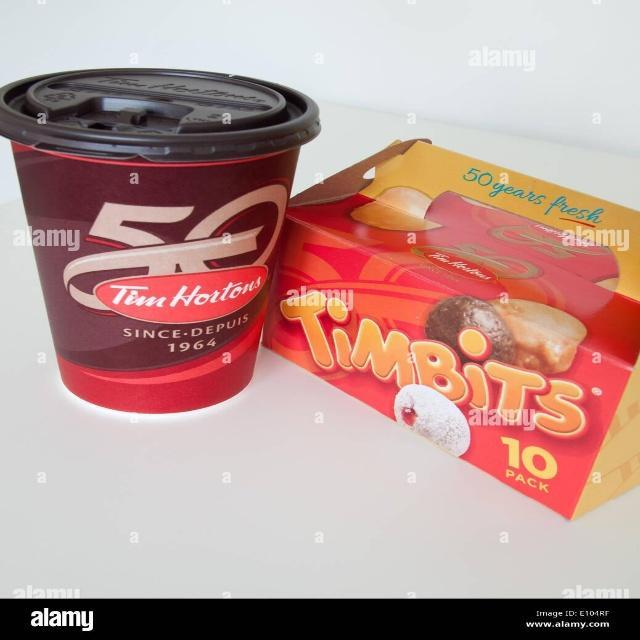timmies: (0, 63, 322, 417)
